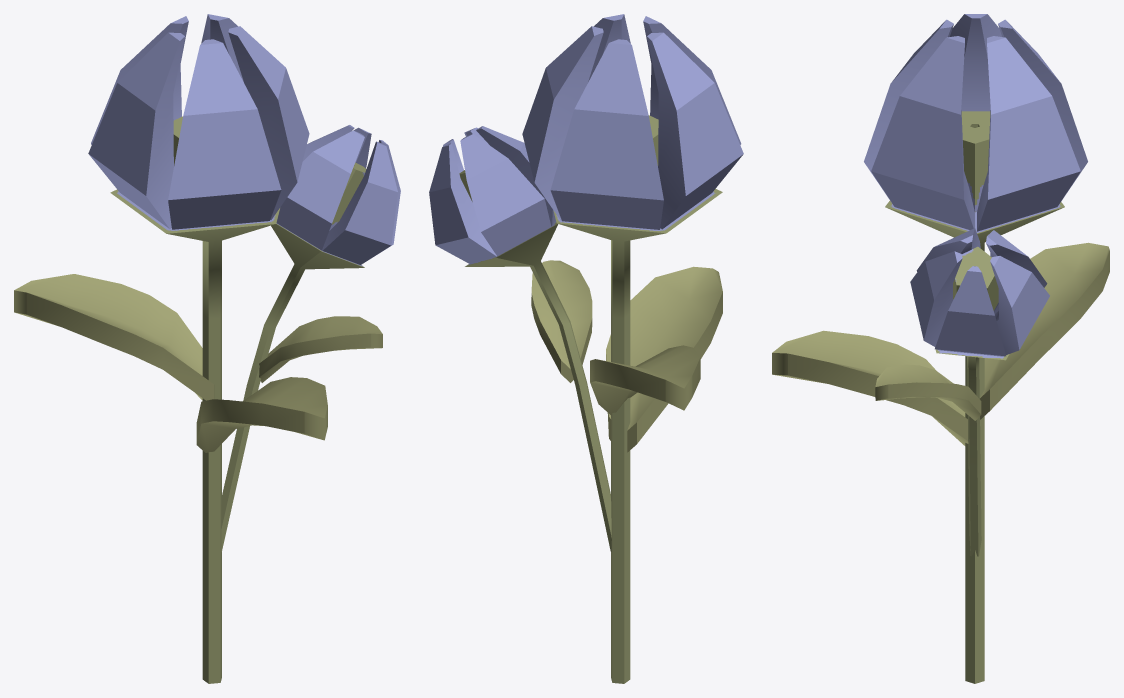
Rendered from flower01.fbx.
3 renders of one model, left to right at view 1: azimuth 30°, elevation 25°; view 2: azimuth 150°, elevation 25°; view 3: azimuth 270°, elevation 25°, orthographic.
Visible parts, largest first — view 1: node_id5, node_id10, node_id9, node_id6, node_id8, node_id11, node_id13, node_id12; view 2: node_id5, node_id10, node_id6, node_id8, node_id9, node_id11, node_id13; view 3: node_id5, node_id10, node_id9, node_id8, node_id6, node_id13, node_id11, node_id7, node_id12.
Boxes of the visible parts, x1=… form: node_id5: x1=88, y1=14, x2=309, y2=229; node_id10: x1=276, y1=125, x2=400, y2=264; node_id9: x1=14, y1=274, x2=214, y2=400; node_id6: x1=110, y1=189, x2=279, y2=683; node_id8: x1=196, y1=377, x2=327, y2=452; node_id11: x1=221, y1=223, x2=364, y2=551; node_id13: x1=259, y1=316, x2=382, y2=382; node_id12: x1=332, y1=162, x2=366, y2=225; node_id5: x1=522, y1=14, x2=743, y2=229; node_id10: x1=429, y1=126, x2=555, y2=263; node_id6: x1=553, y1=188, x2=722, y2=683; node_id8: x1=606, y1=266, x2=722, y2=452; node_id9: x1=590, y1=345, x2=700, y2=415; node_id11: x1=465, y1=220, x2=611, y2=551; node_id13: x1=531, y1=260, x2=592, y2=382; node_id5: x1=864, y1=14, x2=1087, y2=231; node_id10: x1=910, y1=228, x2=1049, y2=356; node_id9: x1=979, y1=242, x2=1109, y2=419; node_id8: x1=772, y1=330, x2=968, y2=445; node_id6: x1=885, y1=201, x2=1064, y2=683; node_id13: x1=875, y1=364, x2=981, y2=420; node_id11: x1=935, y1=349, x2=1009, y2=556; node_id7: x1=961, y1=111, x2=990, y2=212; node_id12: x1=953, y1=246, x2=998, y2=310.
Bounding box in the file's own units: 0.2551 × 0.512 × 0.2422.
Materials: 9 (6 with a texture image).
